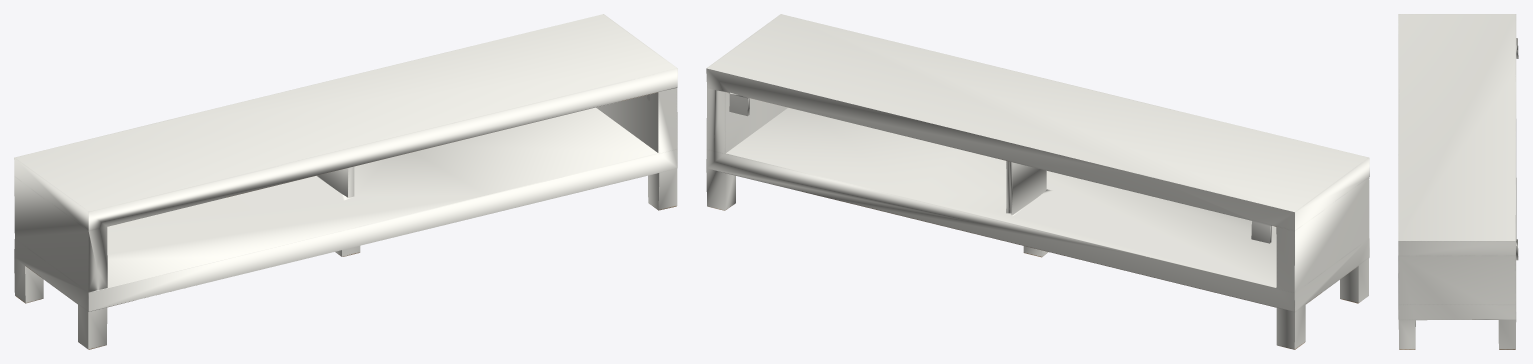
File: lack_tv_unit_white.glb
The picture shows the model from 3 angles, left to right: view 1: azimuth 30°, elevation 25°; view 2: azimuth 150°, elevation 25°; view 3: azimuth 270°, elevation 25°; orthographic projection. The views are drawn at different scales.
Visible parts, largest first — view 1: ProcessedMeshNode; view 2: ProcessedMeshNode; view 3: ProcessedMeshNode.
Boxes of the visible parts, x1,y1,x2,y2 form: ProcessedMeshNode: (14, 14, 677, 349); ProcessedMeshNode: (706, 14, 1369, 349); ProcessedMeshNode: (1398, 14, 1518, 349).
Size of the model in its own units: 1.6 by 0.3598 by 0.3582.
1 material, 1 textured.
